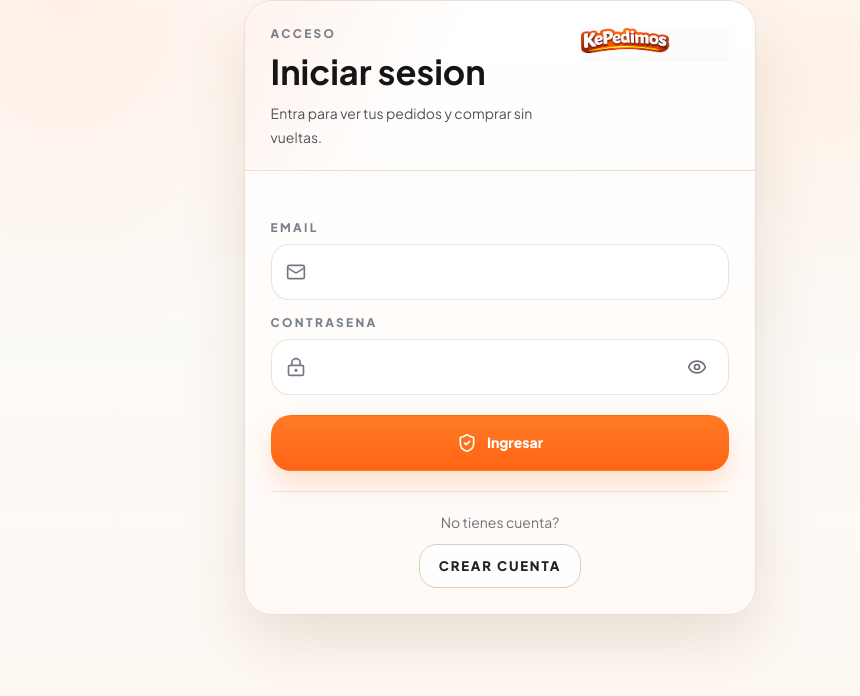
AuthFormCard › shows an inline error and does not submit login with invalid email
Type "cliente@" into the field labelled "Email" at x=519, y=272, box [318,246,720,298]
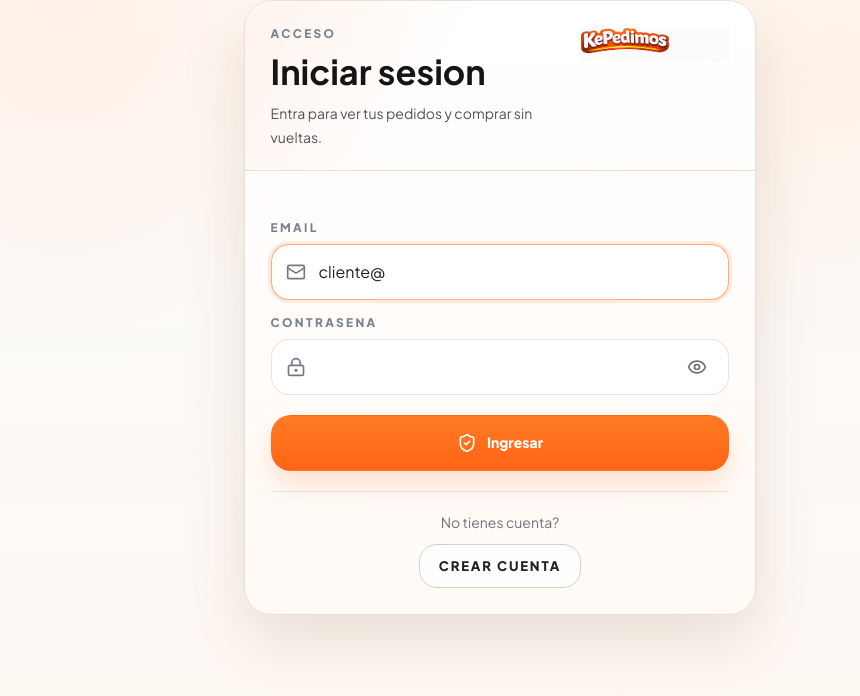
Type "secret123" into the password field labelled "Contrasena" at x=491, y=367, box [318,341,663,393]
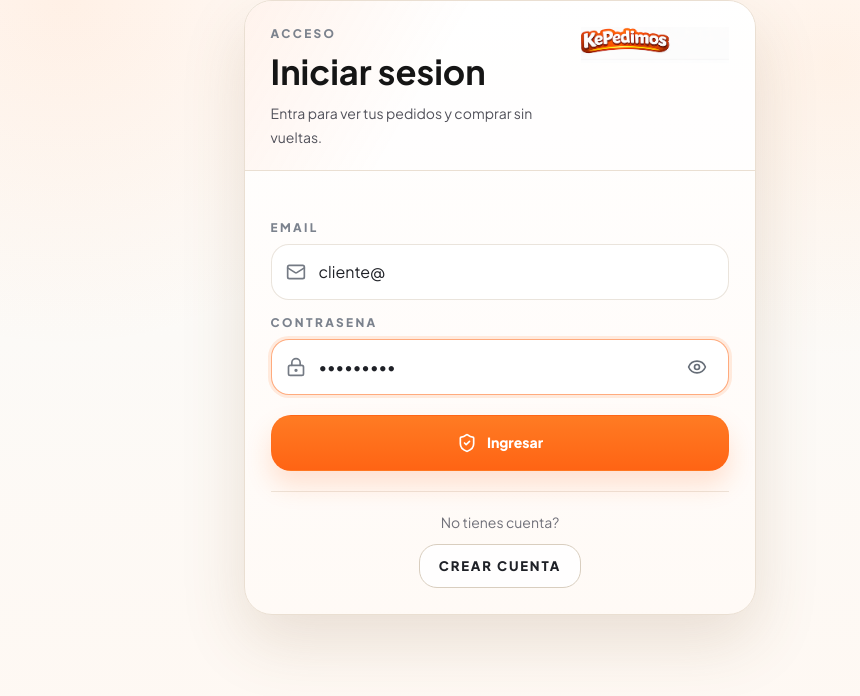
Click the button "Ingresar" at x=500, y=443, box [271,415,729,471]
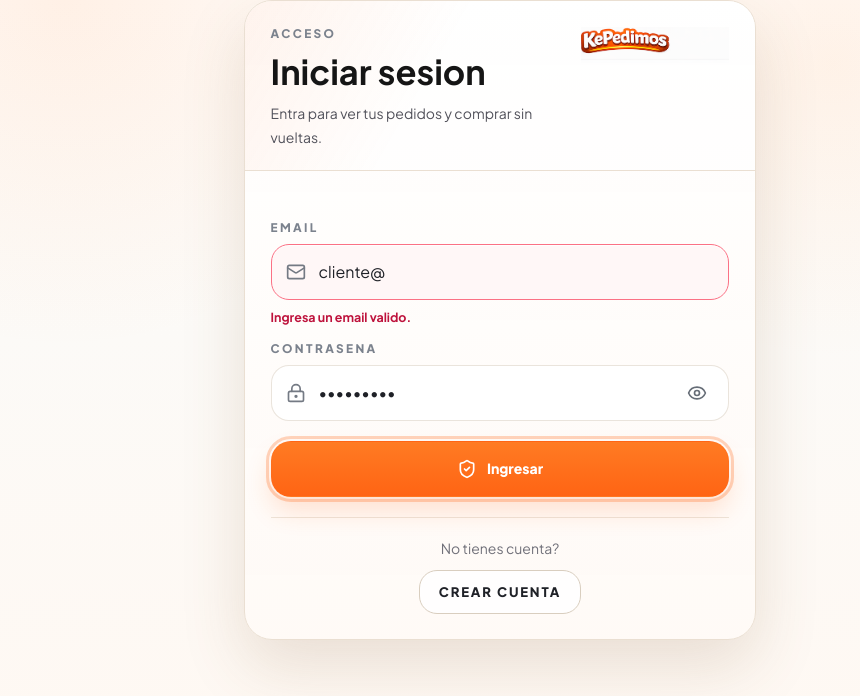
Expected: the text "Ingresa un email valido." is shown, [271,309,411,325]
